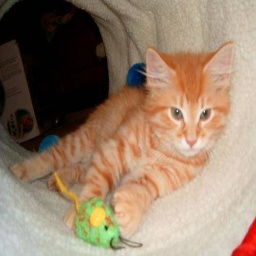cat: (16, 37, 240, 248)
